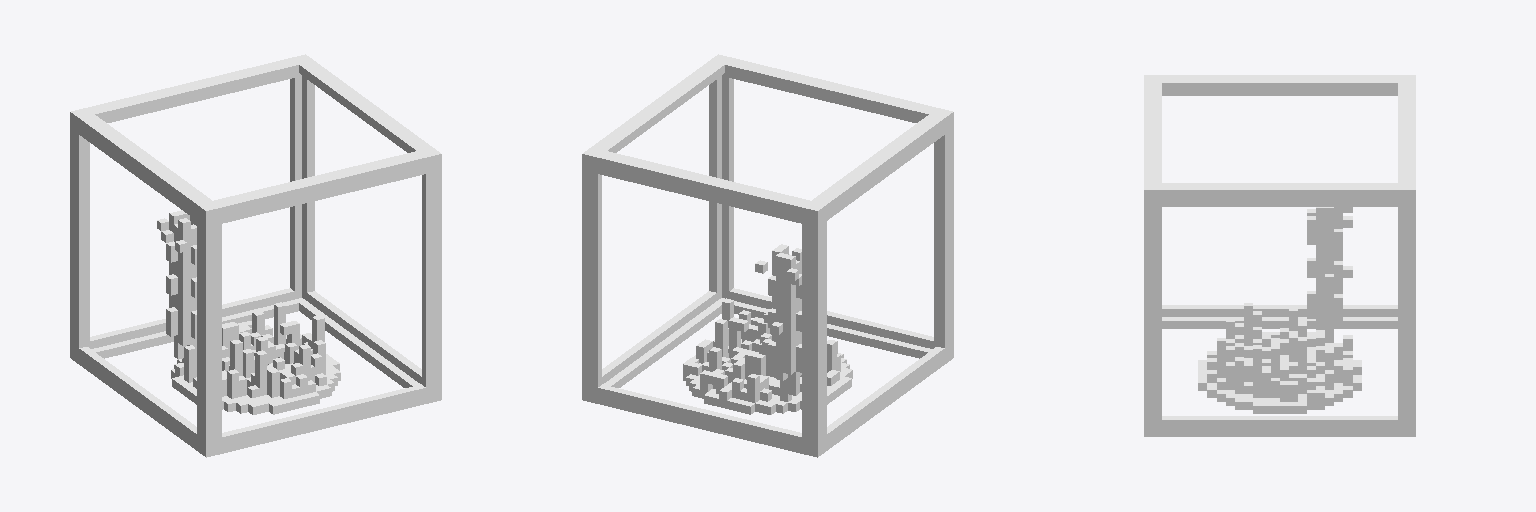
File: NapalmRockets.obj
3 renders of one model, left to right at view 1: azimuth 30°, elevation 25°; view 2: azimuth 150°, elevation 25°; view 3: azimuth 270°, elevation 25°, orthographic.
Parts seen in each view (by area): view 1: object 1; view 2: object 1; view 3: object 1.
Part boxes in pixels (x1,y1,x2,y2): object 1: (70,54,441,457); object 1: (582,54,953,457); object 1: (1144,75,1415,436).
Bounding box in the file's own units: 3 × 3 × 3.